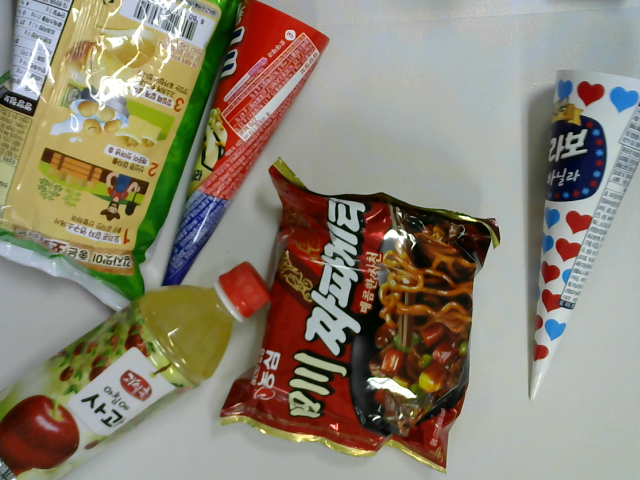Bravo_Cone_(Banila)_CVS: (518, 60, 640, 409)
Morning_Apple_500ml: (1, 261, 277, 480)
Pocachip_Onion: (1, 1, 252, 328)
Sichuan_Chapaghetti: (215, 155, 507, 480)
World_Cone_Banila: (152, 1, 339, 318)
